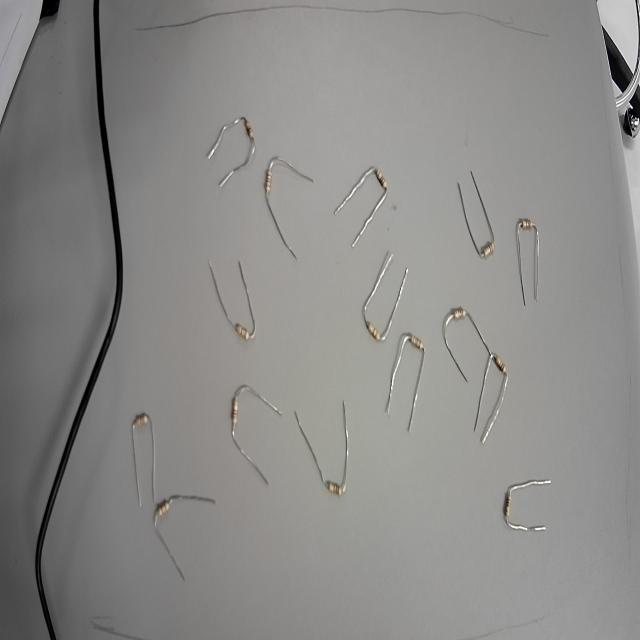resistor: (223, 379, 256, 467), (139, 474, 184, 536), (311, 464, 357, 521), (113, 401, 169, 447), (354, 294, 390, 356), (222, 306, 266, 354), (437, 290, 477, 341), (496, 464, 524, 536), (231, 95, 257, 167), (396, 318, 429, 373), (480, 342, 519, 388), (513, 201, 546, 253), (468, 227, 505, 272), (366, 156, 396, 211), (259, 143, 278, 215)
